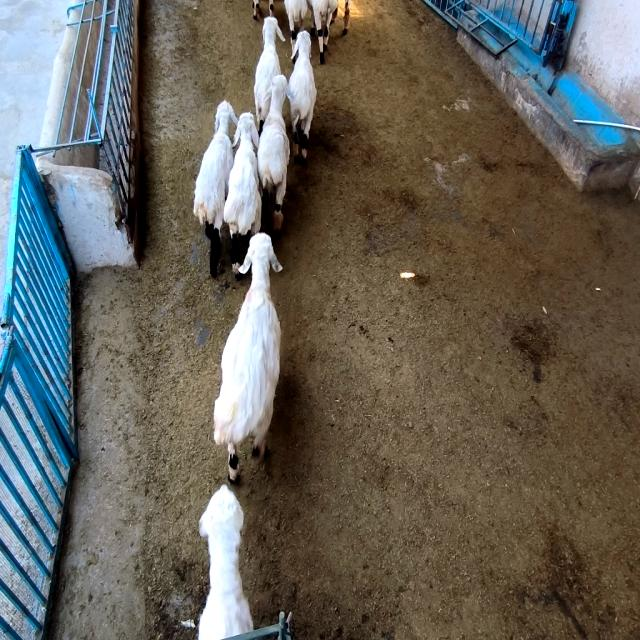sheep: (214, 233, 282, 481), (199, 485, 252, 640), (194, 102, 238, 277), (224, 112, 261, 278), (258, 75, 290, 234), (286, 30, 316, 162), (254, 17, 285, 132), (310, 0, 338, 62)
